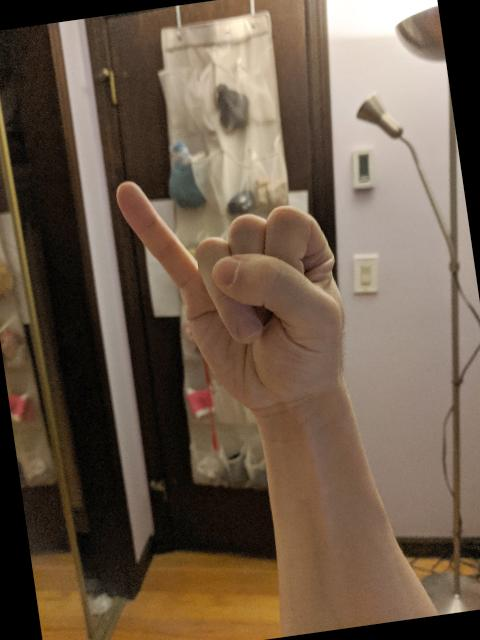I: (108, 148, 364, 434)
